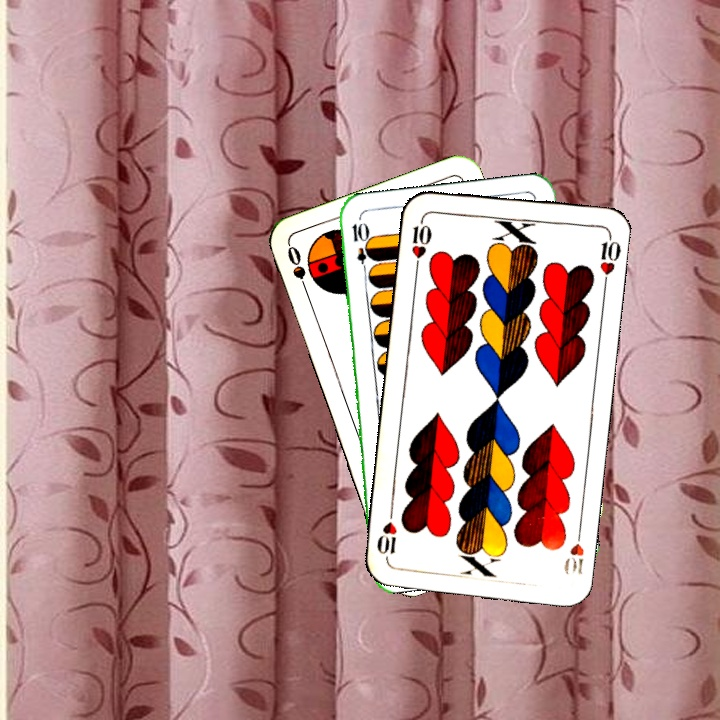E10: (348, 218, 372, 278)
H10: (407, 213, 434, 272), (560, 522, 587, 577)
SO: (283, 241, 312, 299)
